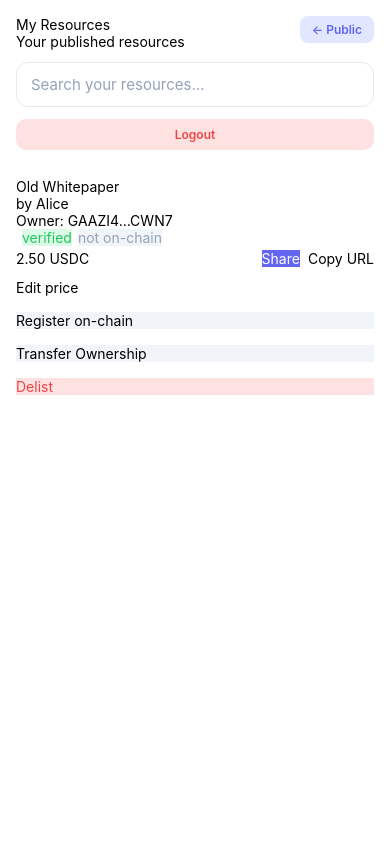
Test case: PublisherResourcesScreen - Delist › keeps the resource and shows the server message when delisting fails
This screenshot has width=390, height=844.
Click the button "Delist": (35, 386) [16,378,374,395]
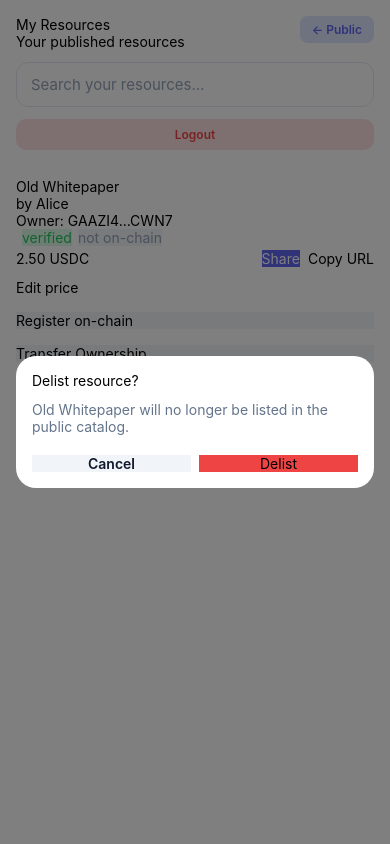
Click the button with aria-label "Confirm delist": (278, 464) [199,455,358,472]
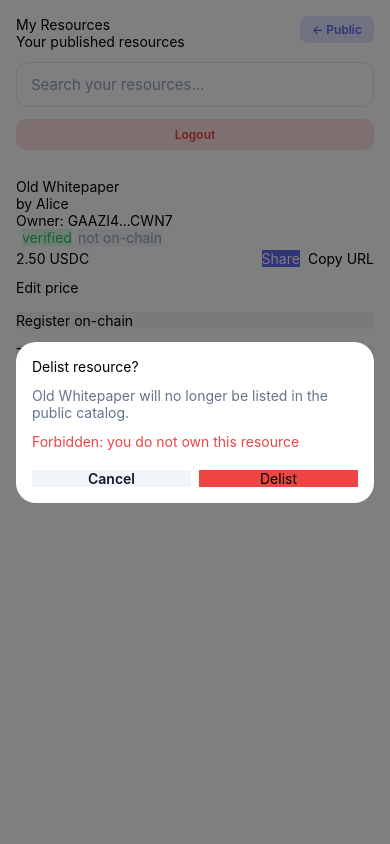
expect the element with test id "delist-modal" is shown: met, box [16,342,374,502]
expect the text "Forbidden: you do not own this resource" is shown: met, box [32,432,299,450]
